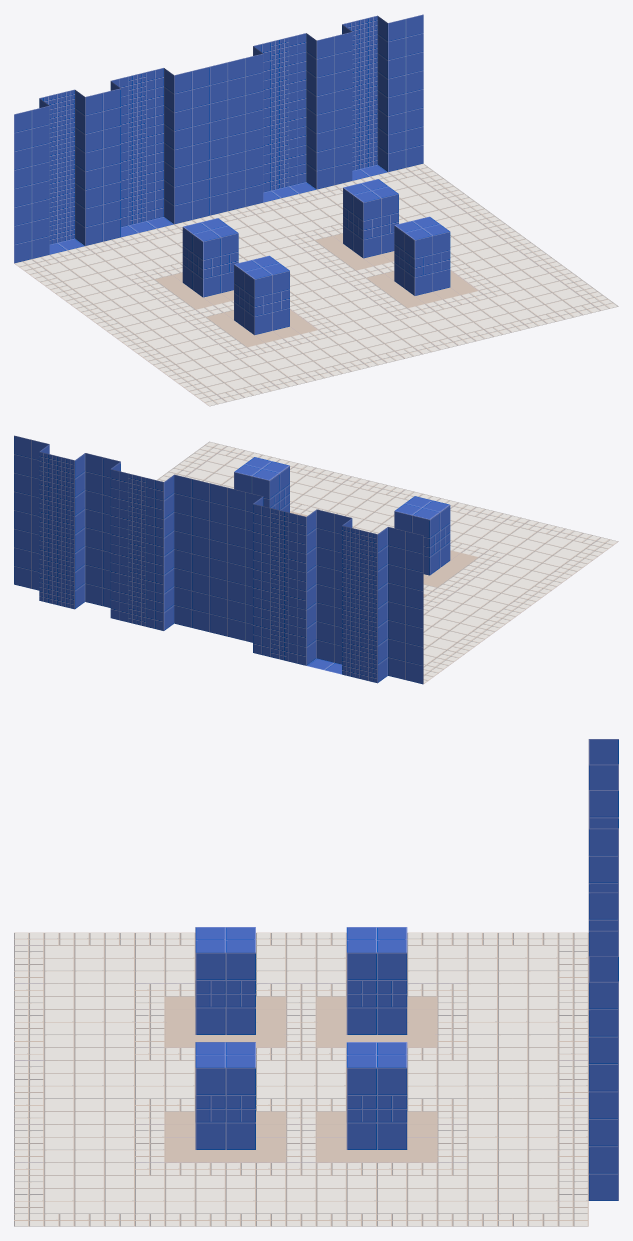
Rendered from Blue Palace.obj.
3 renders of one model, top to bottom at view 1: azimuth 30°, elevation 25°; view 2: azimuth 150°, elevation 25°; view 3: azimuth 270°, elevation 25°, orthographic. The views are drawn at different scales.
Parts seen in each view (by area): view 1: Default; view 2: Default; view 3: Default.
Boxes of the visible parts, x1,y1,x2,y2 form: Default: (14, 14, 618, 406); Default: (14, 435, 618, 684); Default: (14, 739, 618, 1226).
Size of the model in its own units: 46 by 18 by 40.
